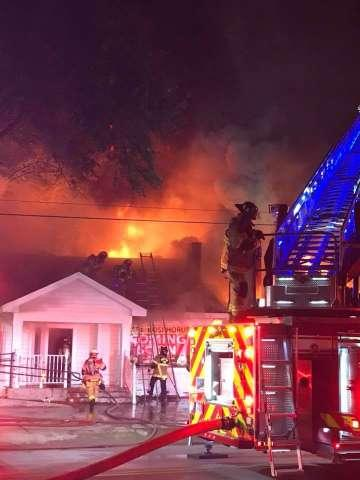fire: (108, 192, 166, 262)
smoke: (175, 142, 296, 212), (8, 189, 101, 260)
